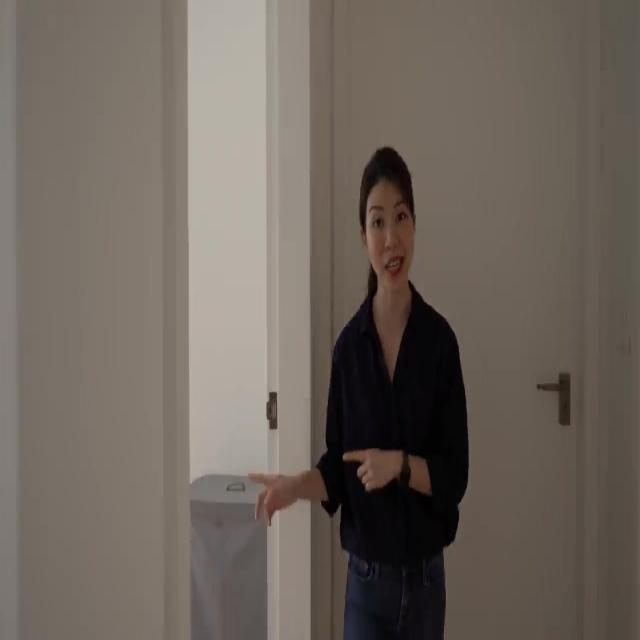door: (360, 9, 573, 640)
person: (247, 145, 469, 639)
